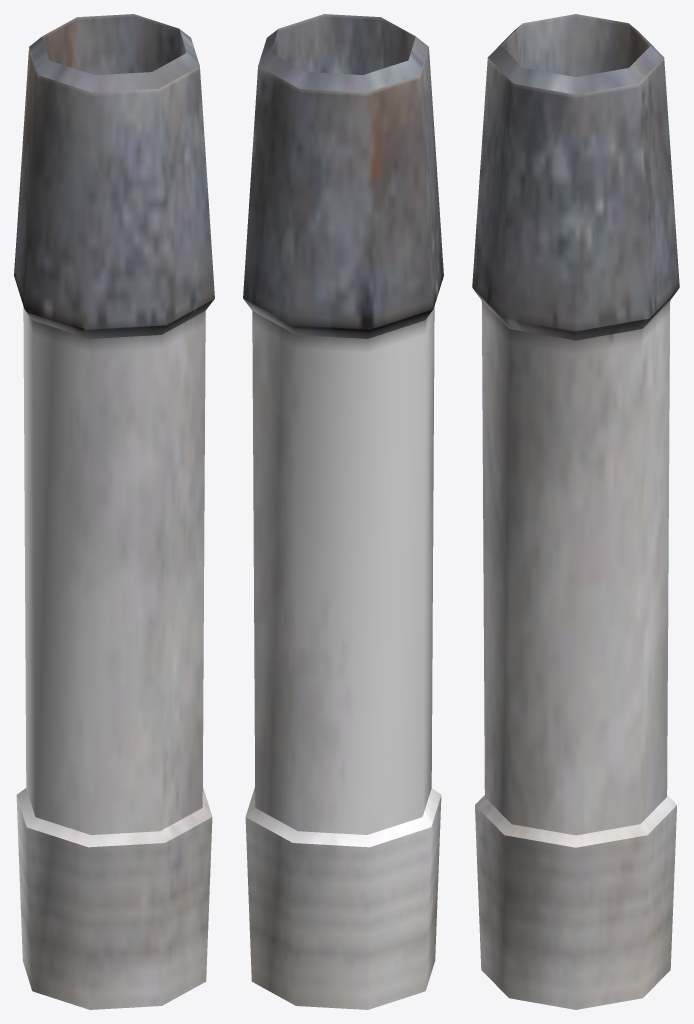
File: edb_con_tato_cup_s3_l0.fbx
The picture shows the model from 3 angles, left to right: view 1: azimuth 30°, elevation 25°; view 2: azimuth 150°, elevation 25°; view 3: azimuth 270°, elevation 25°; orthographic projection.
Parts seen in each view (by area): view 1: mesh_node; view 2: mesh_node; view 3: mesh_node.
Boxes of the visible parts, x1,y1,x2,y2 form: mesh_node: (14,14,214,1009); mesh_node: (243,14,443,1009); mesh_node: (472,14,679,1009).
Bounding box in the file's own units: 0.0758 × 0.3726 × 0.0758.
